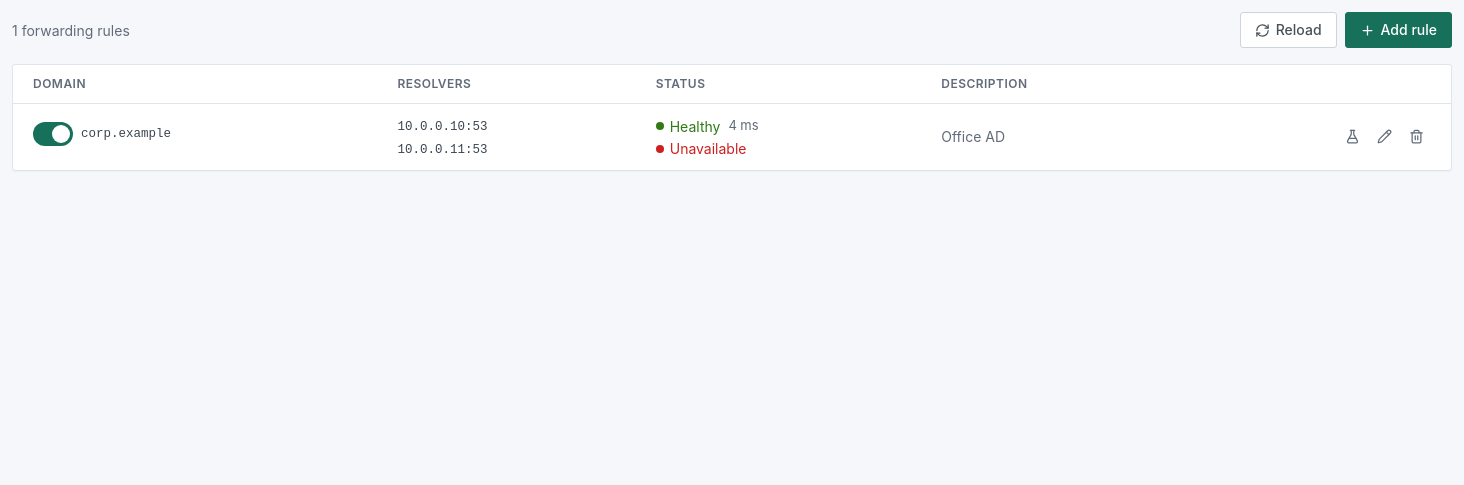
Test: creates a rule from comma-separated resolvers
expect the text "corp.example" is shown: met, box [81,125,171,144]
Click the button "Add rule" at (1398, 30), box [1344,12,1452,48]
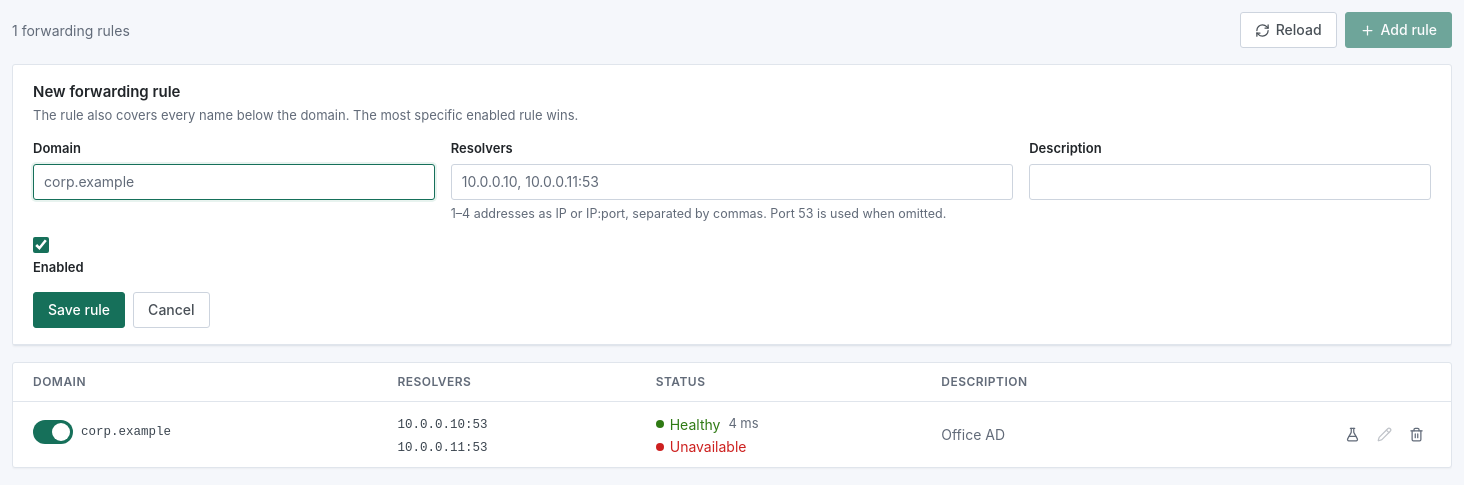
Type " lab.example " into the field labelled "Domain" at (234, 182), box [33,164,435,200]
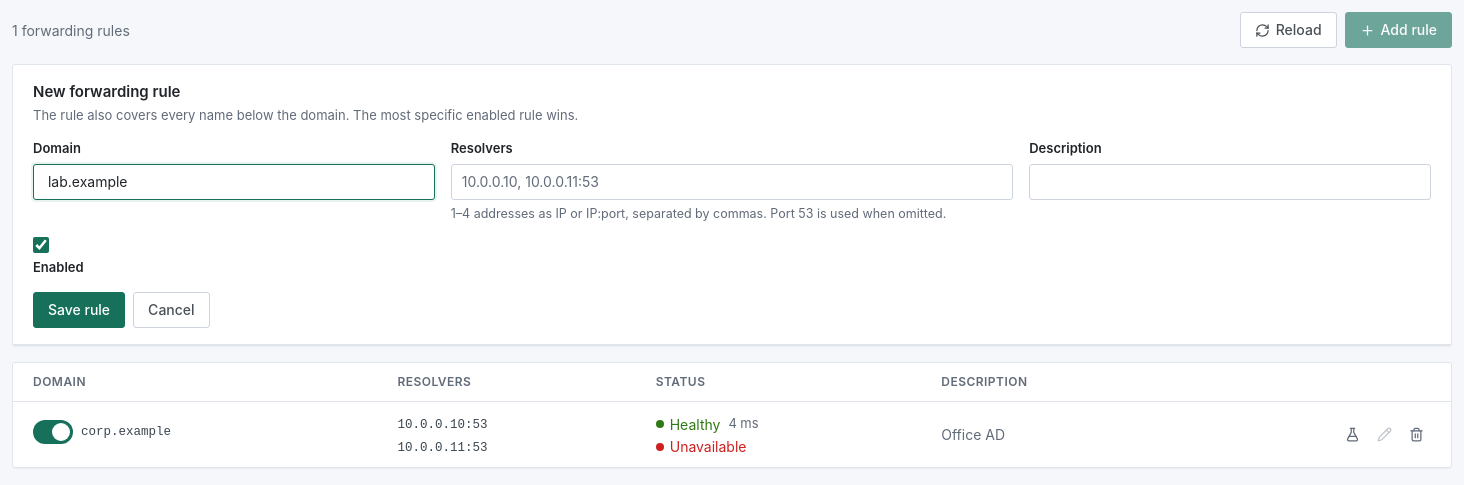
Type "10.0.1.1, 10.0.1.2:5353" into the field labelled "Resolvers" at (732, 182), box [451,164,1013,200]
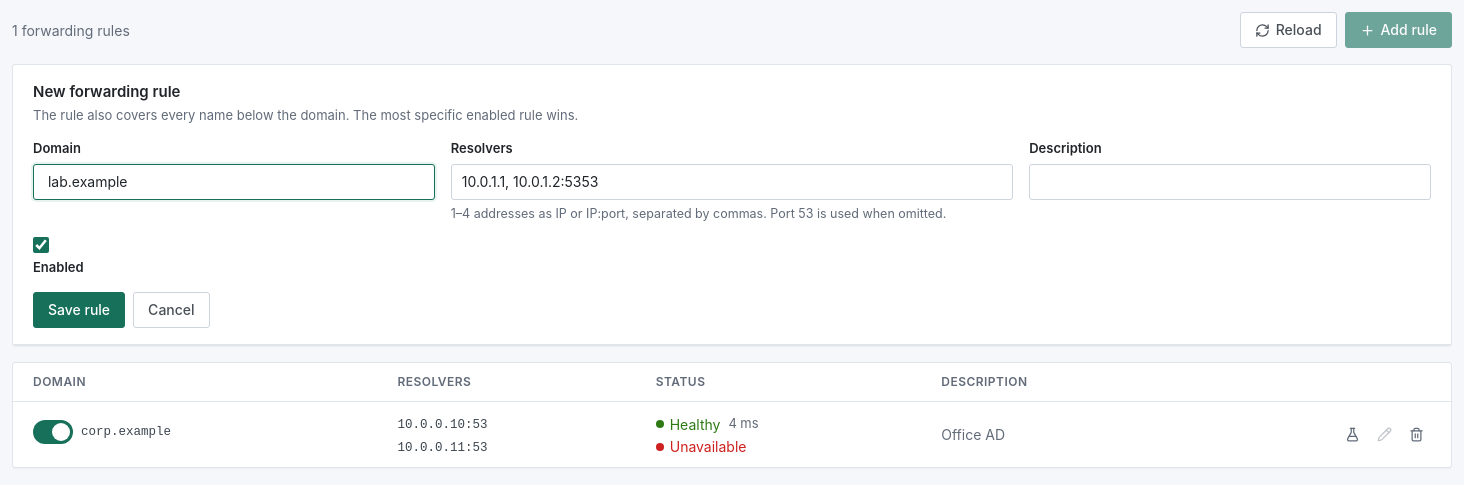
Click the button "Save rule" at (79, 310), box [33,292,125,328]
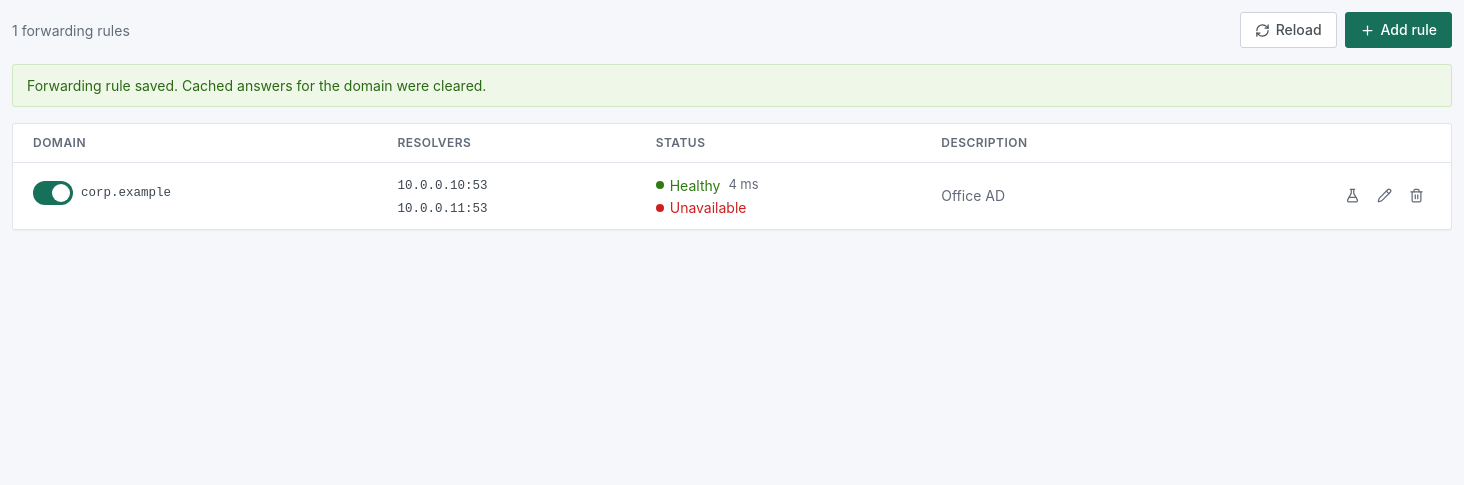
expect the text "Forwarding rule saved. Cached answers for the domain were cleared." is shown: met, box [12,64,1452,107]
